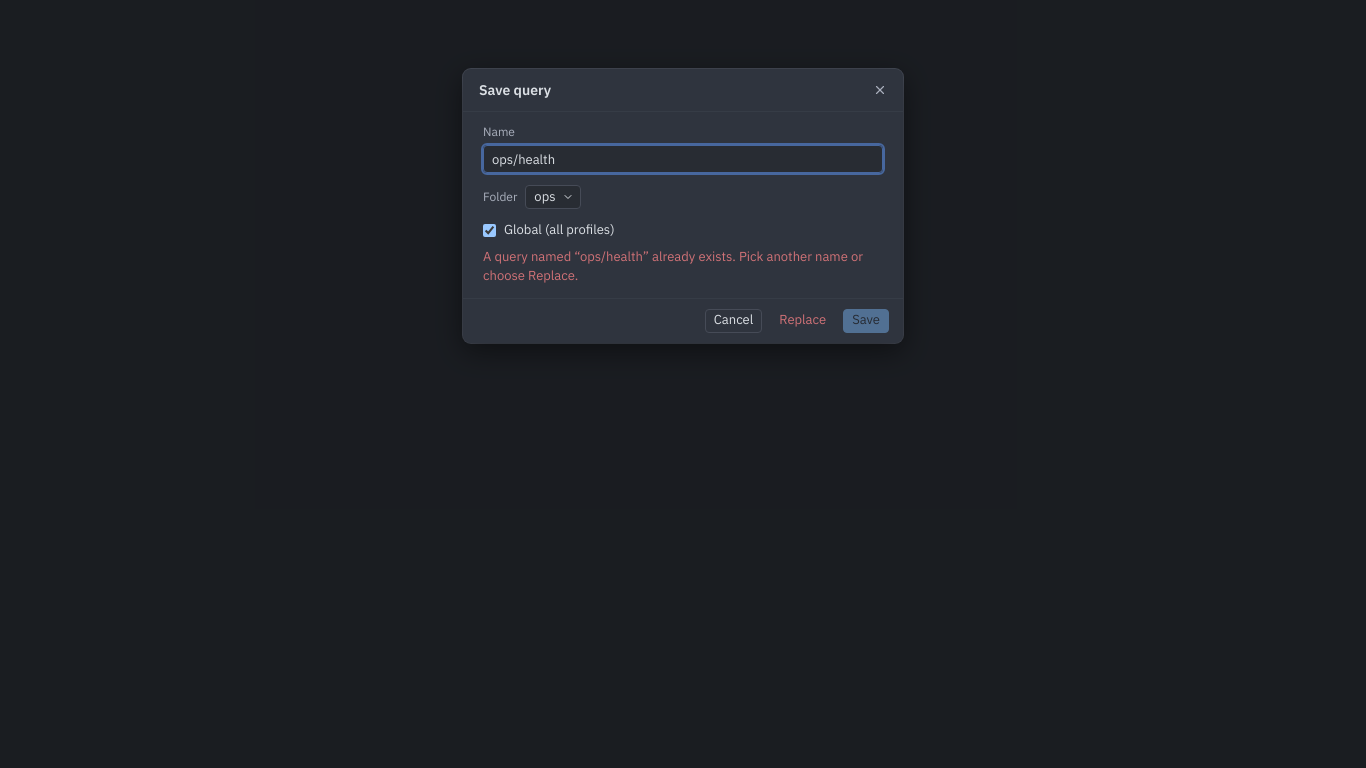
Test case: SaveQueryDialog › allows the same name in the other scope
The image size is (1366, 768).
Expected: the message is shown, [483, 248, 883, 286]
Click the checkbox labelled "Global (all profiles)".
click(490, 230)  # box [483, 224, 496, 237]
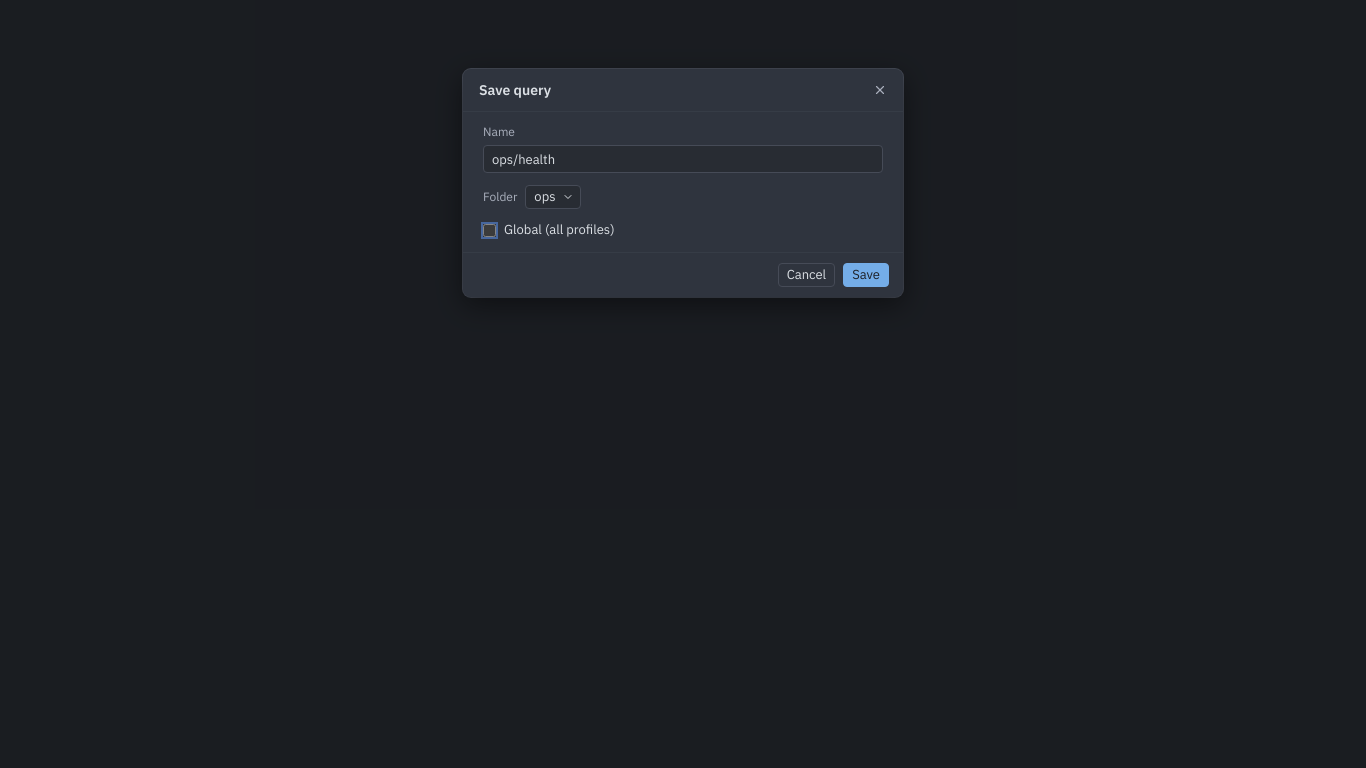
Result: the message "A query named “ops/health” already exists. Pick another name or choose Replace." is gone
Result: the button "Save" is enabled at [843, 263, 889, 287]
